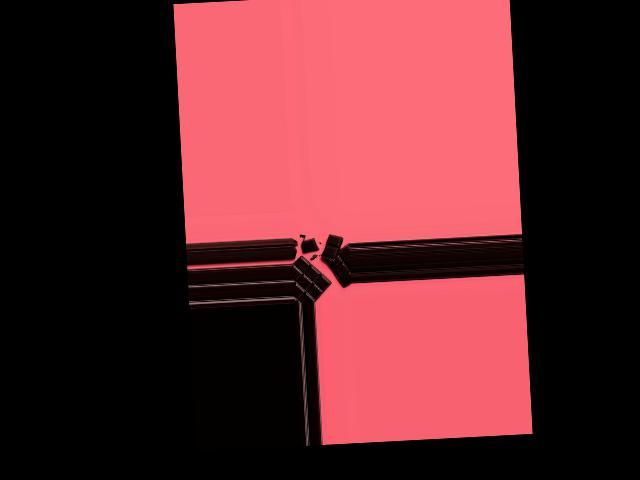chocolate: (291, 237, 349, 304)
